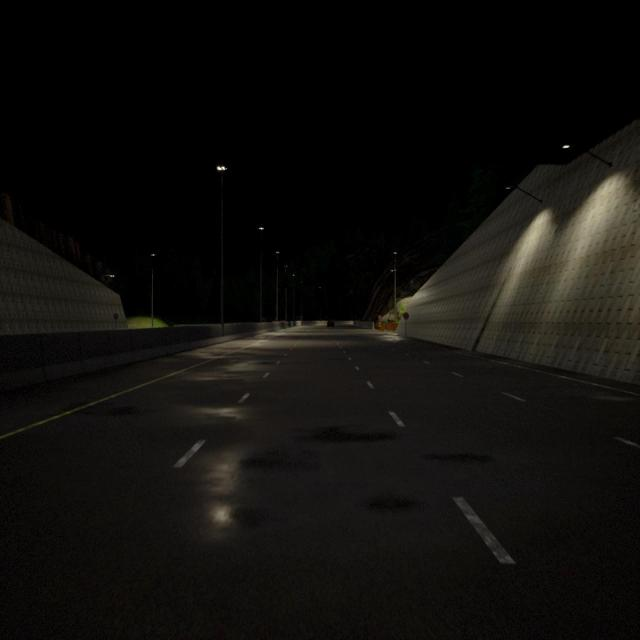Traffic_Signs: (403, 312, 409, 320), (114, 313, 118, 319), (378, 315, 381, 319)
Vehicle: (328, 320, 334, 327)
